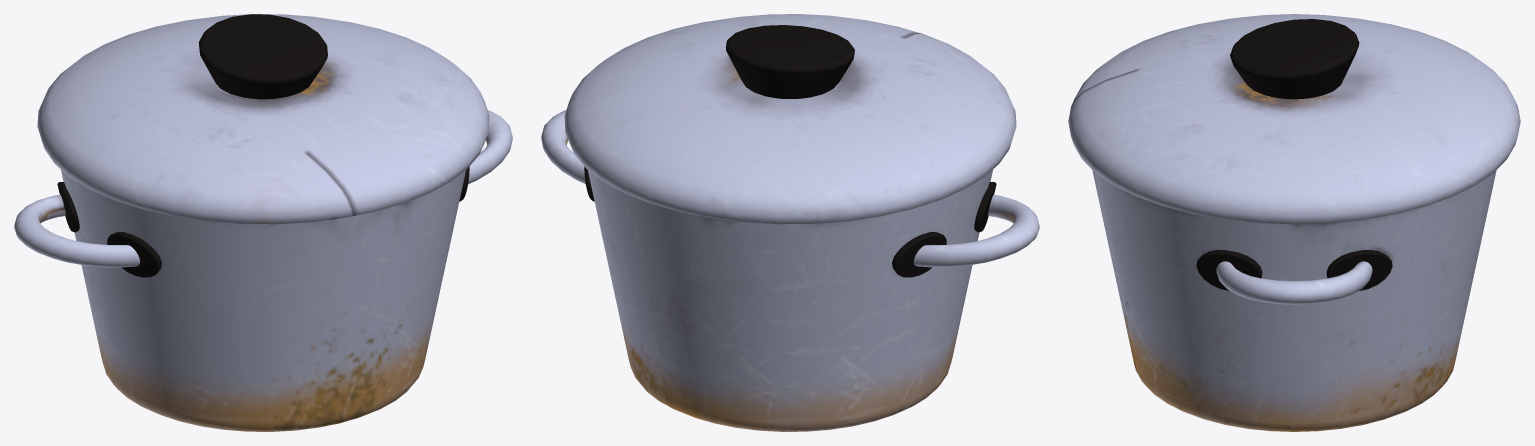
File: SM_Pot02.fbx
The picture shows the model from 3 angles, left to right: view 1: azimuth 30°, elevation 25°; view 2: azimuth 150°, elevation 25°; view 3: azimuth 270°, elevation 25°; orthographic projection.
Visible parts, largest first — view 1: SM_Pot02_LOD0; view 2: SM_Pot02_LOD0; view 3: SM_Pot02_LOD0.
Boxes of the visible parts, <box> form: SM_Pot02_LOD0: <box>14,14,512,431</box>; SM_Pot02_LOD0: <box>541,14,1039,431</box>; SM_Pot02_LOD0: <box>1068,14,1520,431</box>.
Size of the model in its own units: 48.25 by 39.36 by 31.66.
Materials: 1 (1 with a texture image).
